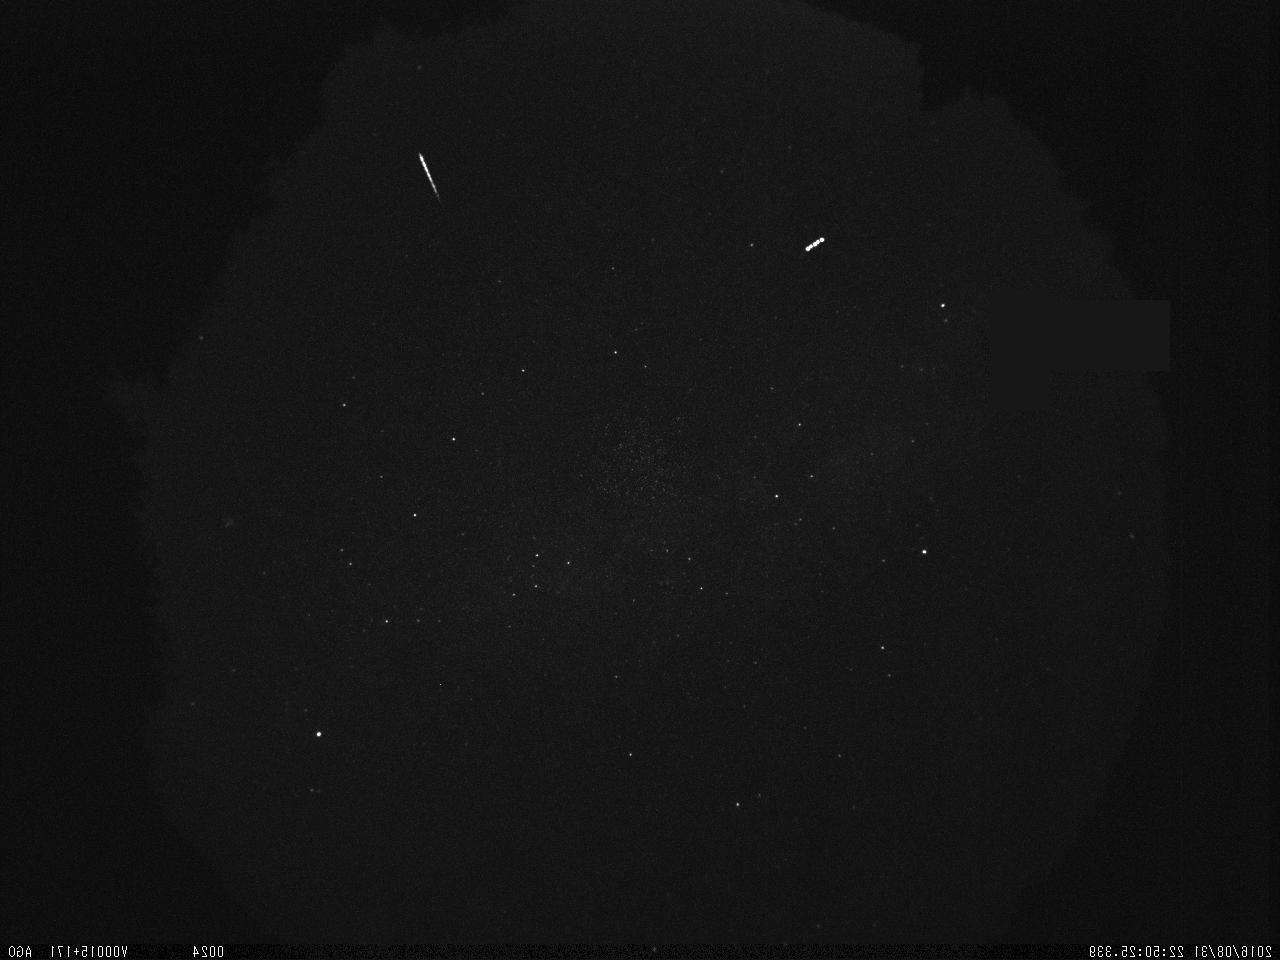meteor: (404, 134, 458, 220)
